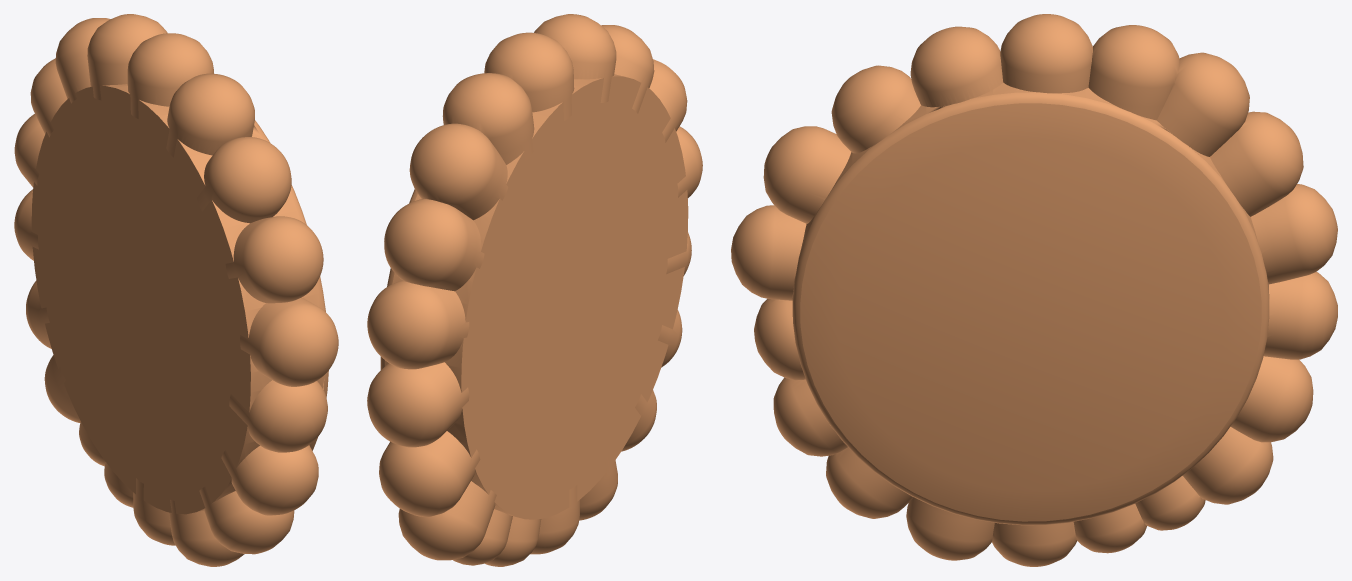
Rendered from Decoration4.fbx.
3 views of the same model, side by side, from view 1: azimuth 30°, elevation 25°; view 2: azimuth 150°, elevation 25°; view 3: azimuth 270°, elevation 25° (orthographic). The views are drawn at different scales.
Visible parts, largest first — view 1: Circle.002; view 2: Circle.002; view 3: Circle.002.
Boxes of the visible parts, x1=… form: Circle.002: x1=14, y1=14, x2=338, y2=566; Circle.002: x1=367, y1=14, x2=702, y2=566; Circle.002: x1=731, y1=14, x2=1337, y2=566.
Size of the model in its own units: 31.44 by 170 by 172.
